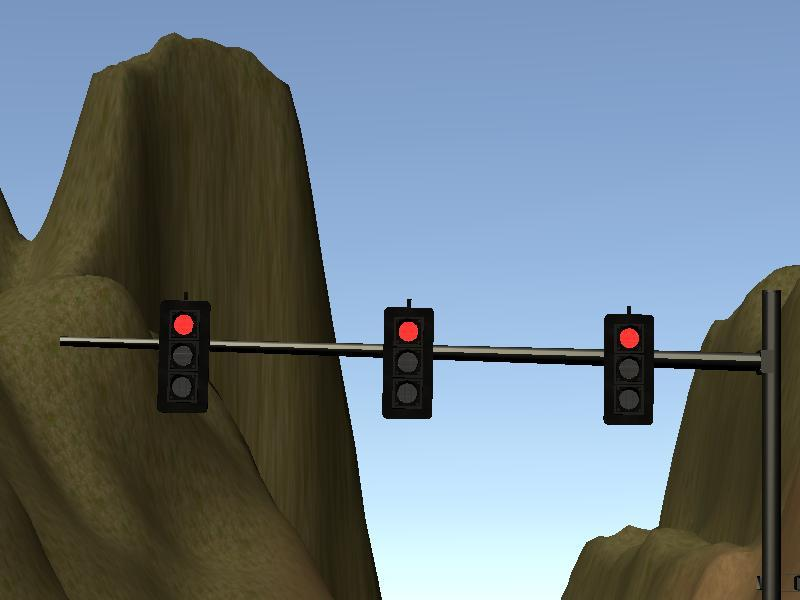Red: (157, 301, 209, 413), (382, 306, 433, 419), (602, 314, 653, 425)
